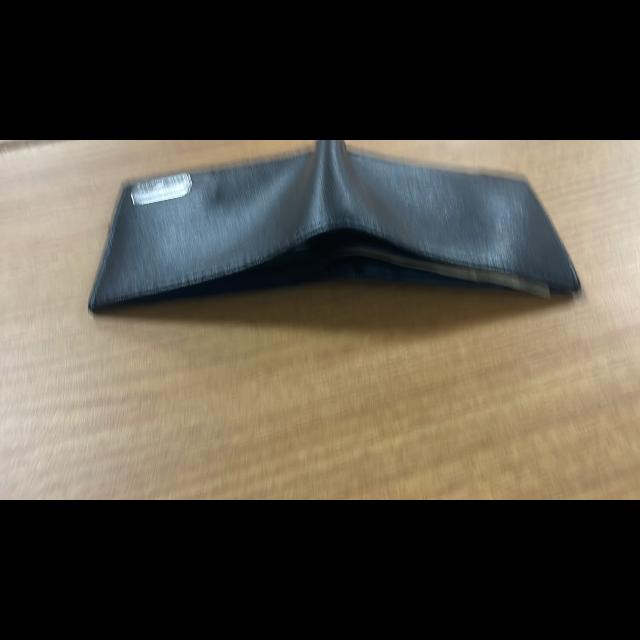wallet: (107, 140, 595, 324)
